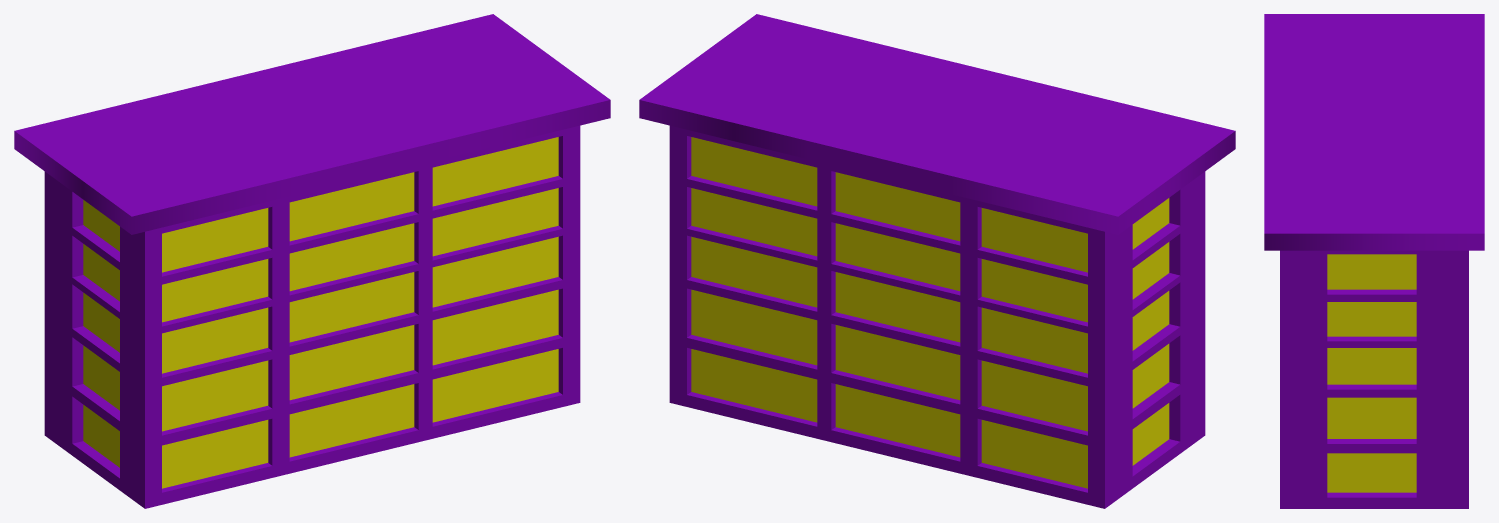
File: Building_Large_Side_001.fbx
3 views of the same model, side by side, from view 1: azimuth 30°, elevation 25°; view 2: azimuth 150°, elevation 25°; view 3: azimuth 270°, elevation 25° (orthographic). The views are drawn at different scales.
Parts seen in each view (by area): view 1: Building_Large_Side_001; view 2: Building_Large_Side_001; view 3: Building_Large_Side_001.
Part boxes in pixels (x1,y1,x2,y2): Building_Large_Side_001: [14, 14, 610, 508]; Building_Large_Side_001: [639, 14, 1235, 508]; Building_Large_Side_001: [1264, 14, 1484, 508].
Bounding box in the file's own units: 6600 × 4000 × 2800.
